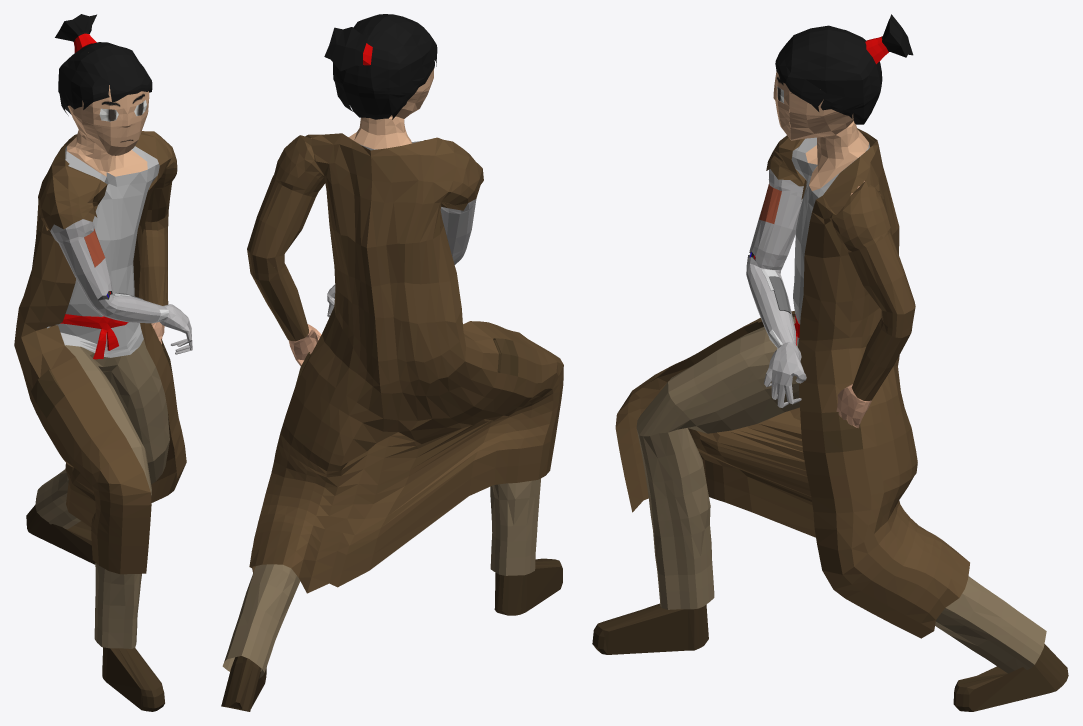
The model's file is One_DR_000003.obj.
The picture shows the model from 3 angles, left to right: view 1: azimuth 30°, elevation 25°; view 2: azimuth 150°, elevation 25°; view 3: azimuth 270°, elevation 25°; orthographic projection. The views are drawn at different scales.
Parts seen in each view (by area): view 1: Hair_Cube.004; view 2: Hair_Cube.004; view 3: Hair_Cube.004.
Part boxes in pixels (<box>): Hair_Cube.004: <box>14,14,192,711</box>; Hair_Cube.004: <box>221,14,563,711</box>; Hair_Cube.004: <box>592,14,1068,711</box>.
Size of the model in its own units: 1.14 by 3.48 by 2.27.
